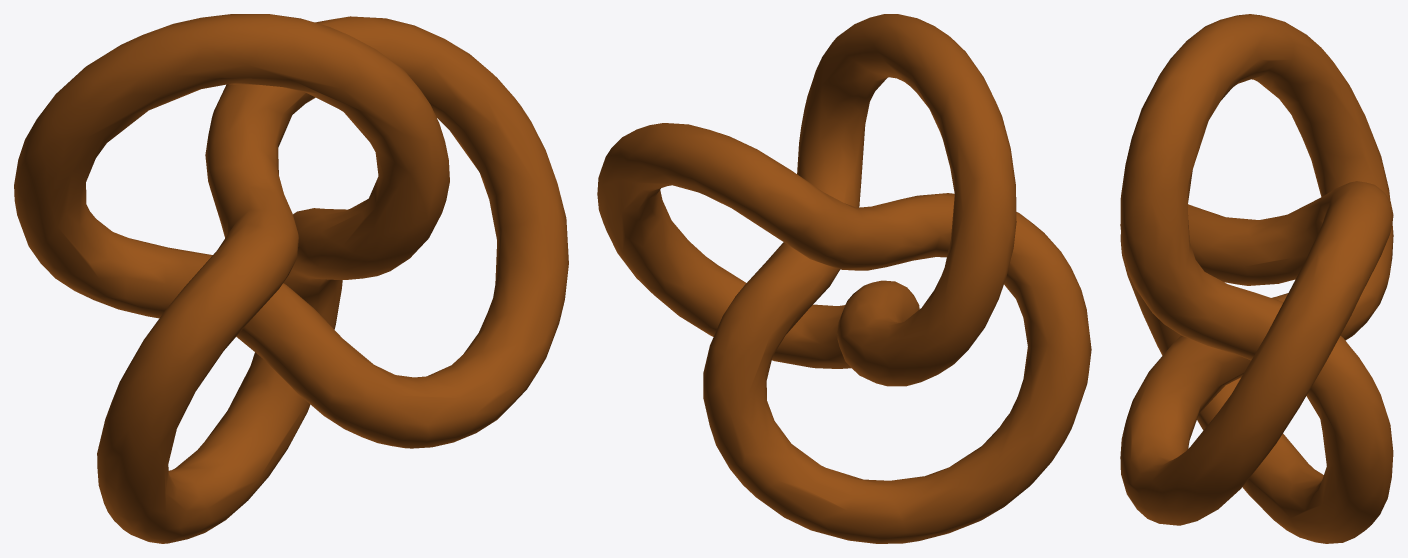
The model's file is TrefoilKnot.obj.
3 renders of one model, left to right at view 1: azimuth 30°, elevation 25°; view 2: azimuth 150°, elevation 25°; view 3: azimuth 270°, elevation 25°, orthographic. The views are drawn at different scales.
Parts seen in each view (by area): view 1: TrefoilKnot; view 2: TrefoilKnot; view 3: TrefoilKnot.
Boxes of the visible parts, x1,y1,x2,y2 form: TrefoilKnot: (14,14,568,543); TrefoilKnot: (597,14,1091,543); TrefoilKnot: (1120,14,1393,543).
Bounding box in the file's own units: 30.25 × 31.81 × 15.83.
